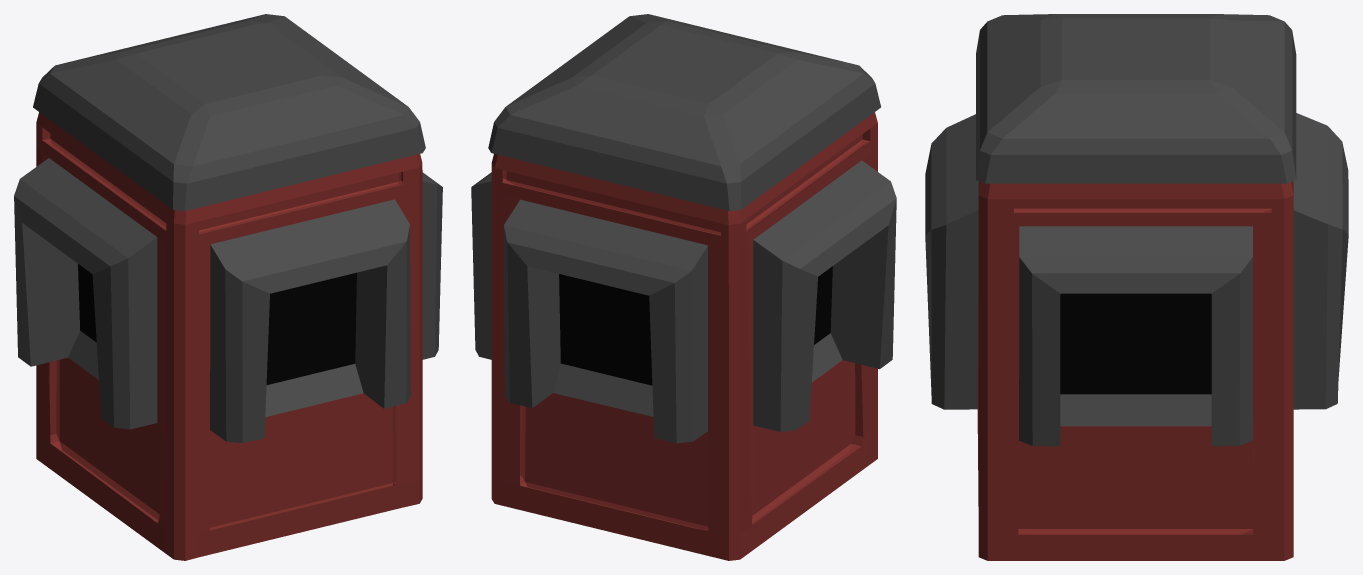
File: Trap4Sides.fbx
The picture shows the model from 3 angles, left to right: view 1: azimuth 30°, elevation 25°; view 2: azimuth 150°, elevation 25°; view 3: azimuth 270°, elevation 25°; orthographic projection. The views are drawn at different scales.
Parts seen in each view (by area): view 1: Cube; view 2: Cube; view 3: Cube.
Boxes of the visible parts, x1,y1,x2,y2 form: Cube: (14,14,442,560); Cube: (471,14,896,560); Cube: (925,14,1348,560).
Bounding box in the file's own units: 300 × 349 × 300.
